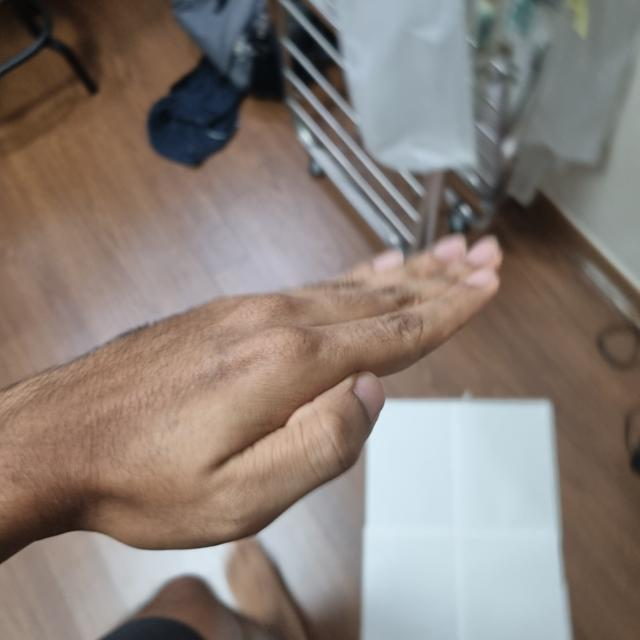Paper: (4, 240, 503, 553)
